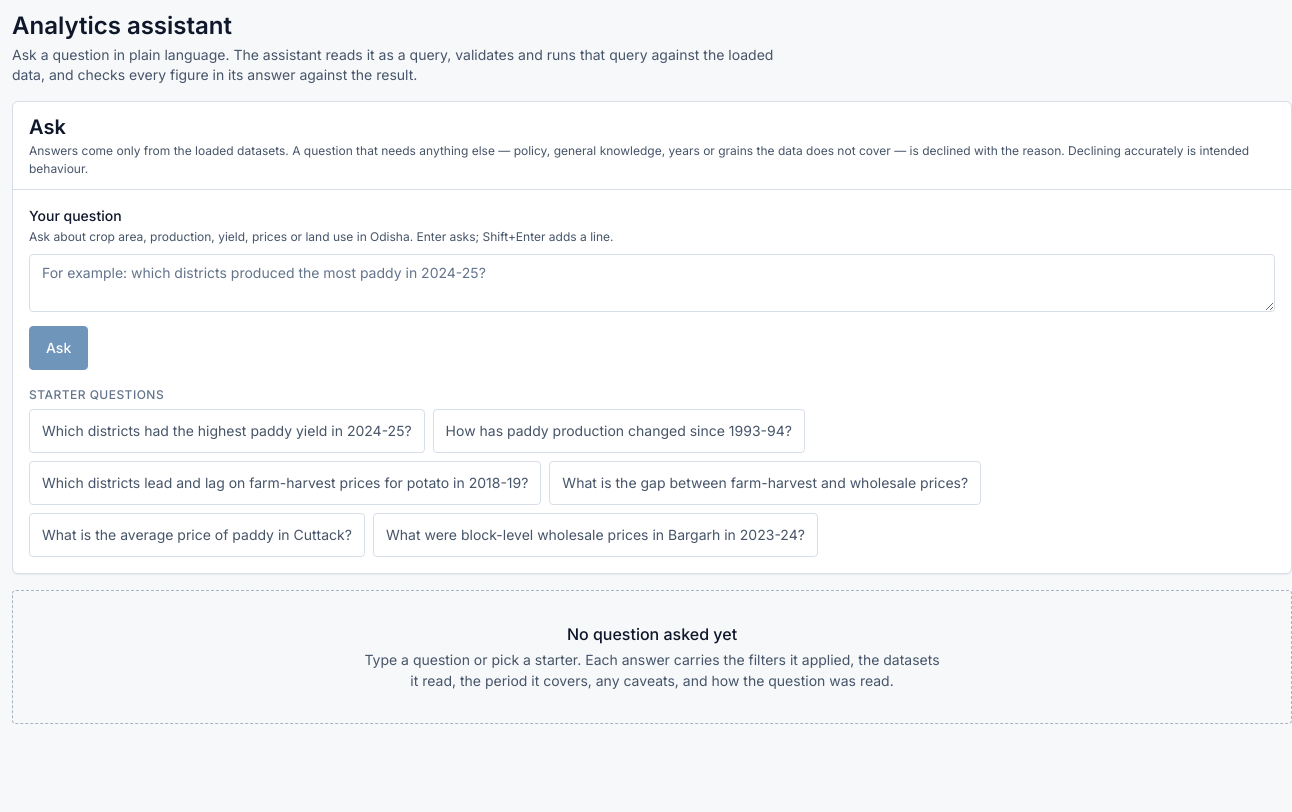
Test: Assistant (RFP area 5) › leads with a free-text question box, with starters that fill it
Expected: the text "No question asked yet" is shown, 567,624 -> 737,644
What coordinates should you click on to do the following:
click the button "Which districts had the highest paddy yield in 2024-25?"
I would click on:
 (227, 431)
Its box is 29,409 -> 425,453.
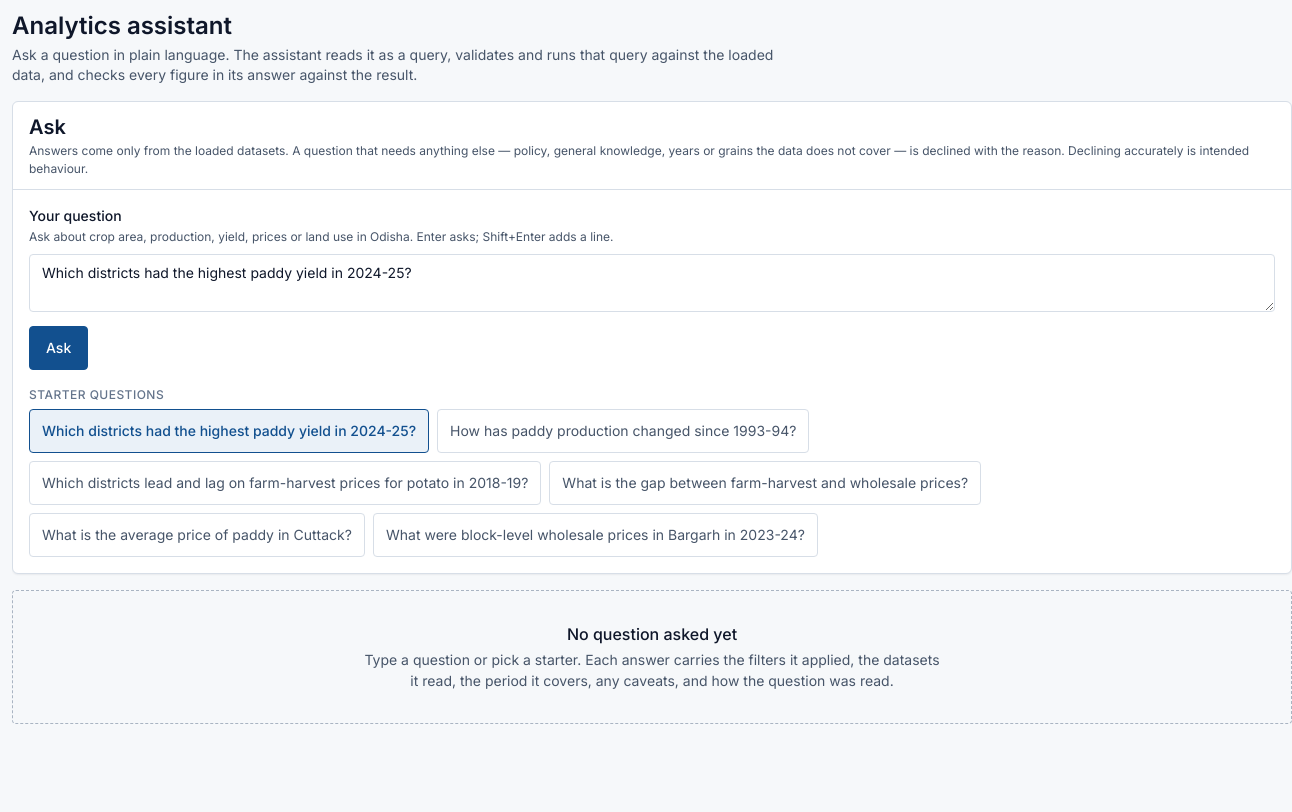
Expected: the text "No question asked yet" is shown, 567,624 -> 737,644
Result: the text box labelled "Your question" holds "Which districts had the highest paddy yield in 2024-25?" at 29,254 -> 1275,312
